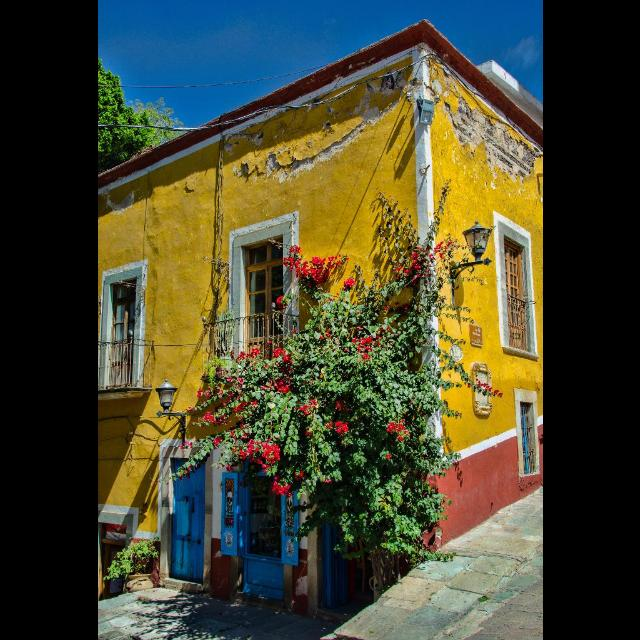Flower: (152, 244, 460, 502), (466, 378, 504, 398), (276, 297, 286, 309)
